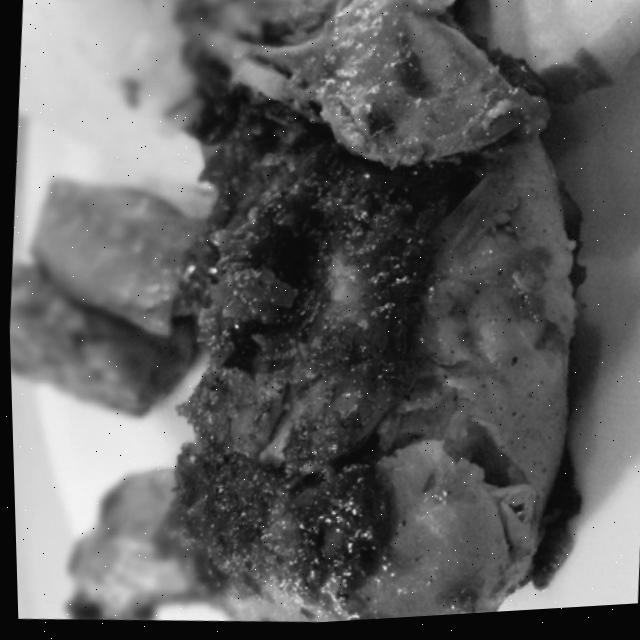鸡肉料理 含炸鸡: (58, 0, 639, 637)
